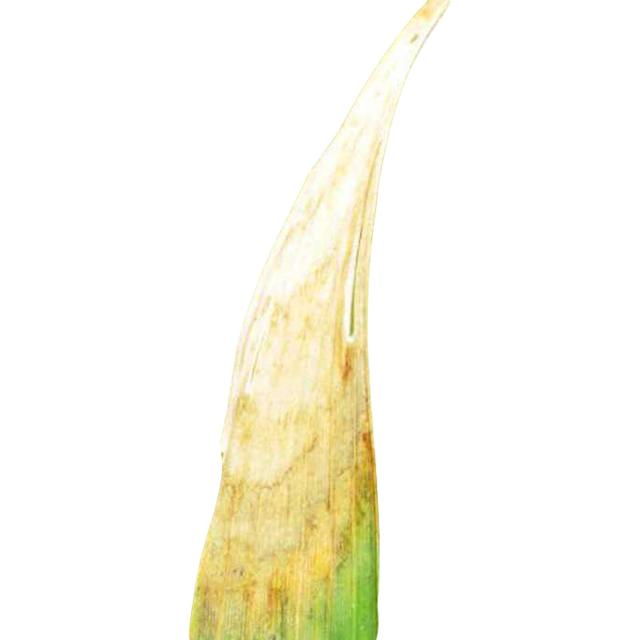Leaf scald: (140, 6, 514, 640)
